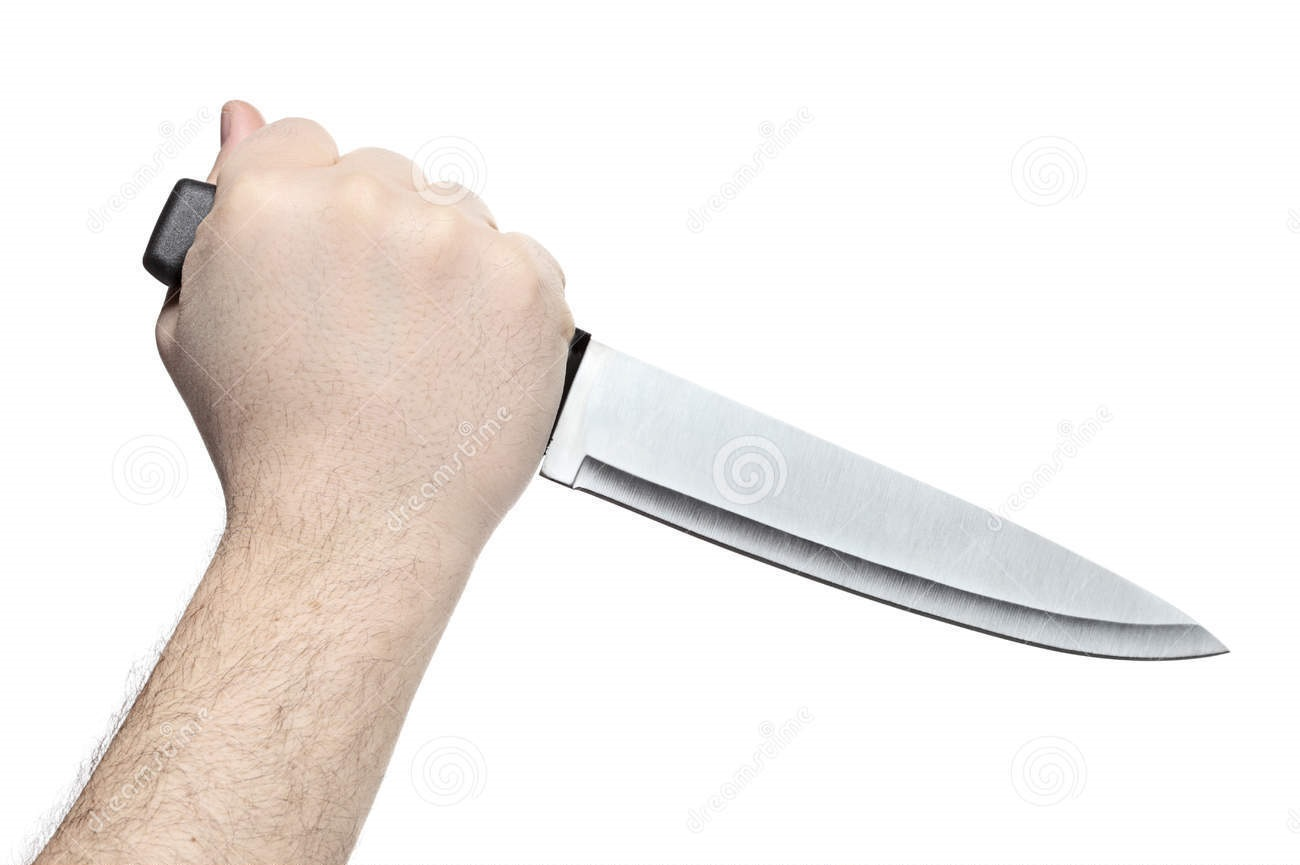knife: (352, 134, 1253, 686)
